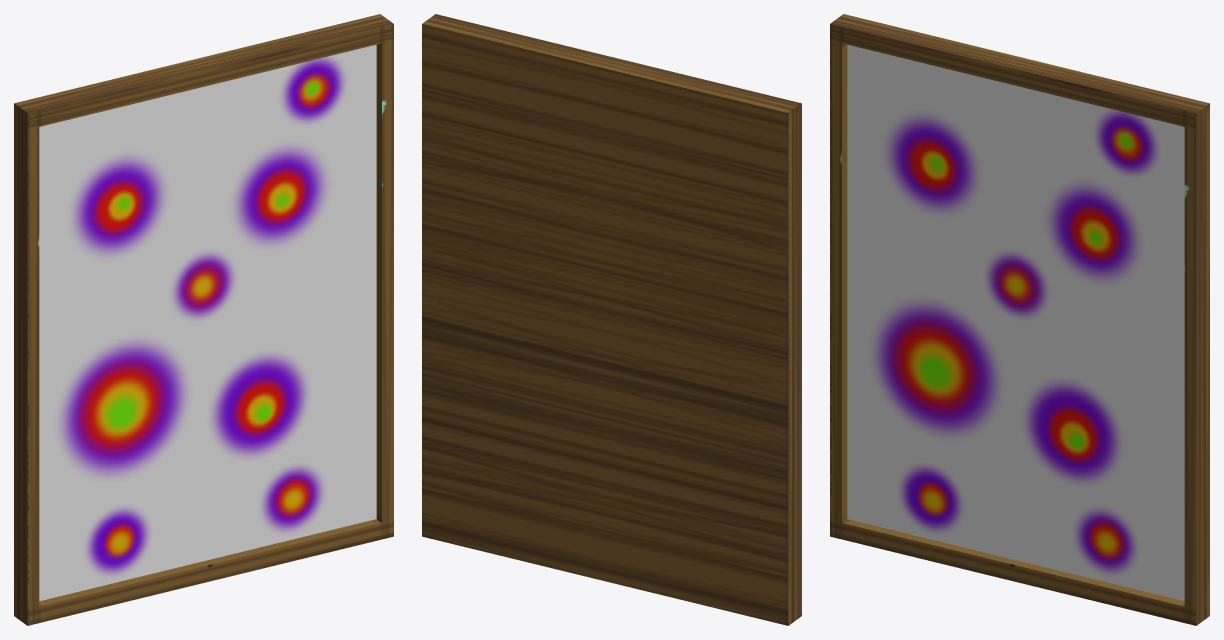
File: Painting 2.glb
The picture shows the model from 3 angles, left to right: view 1: azimuth 30°, elevation 25°; view 2: azimuth 150°, elevation 25°; view 3: azimuth 330°, elevation 25°; orthographic projection.
Parts seen in each view (by area): view 1: Cube; view 2: Cube; view 3: Cube.
Boxes of the visible parts, x1,y1,x2,y2 form: Cube: (14, 14, 393, 625); Cube: (422, 14, 801, 625); Cube: (830, 14, 1209, 625).
Bounding box in the file's own units: 0.643 × 0.8602 × 0.041.
Materials: 2 (2 with a texture image).
